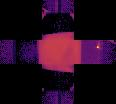earth: (37, 32, 81, 73)
